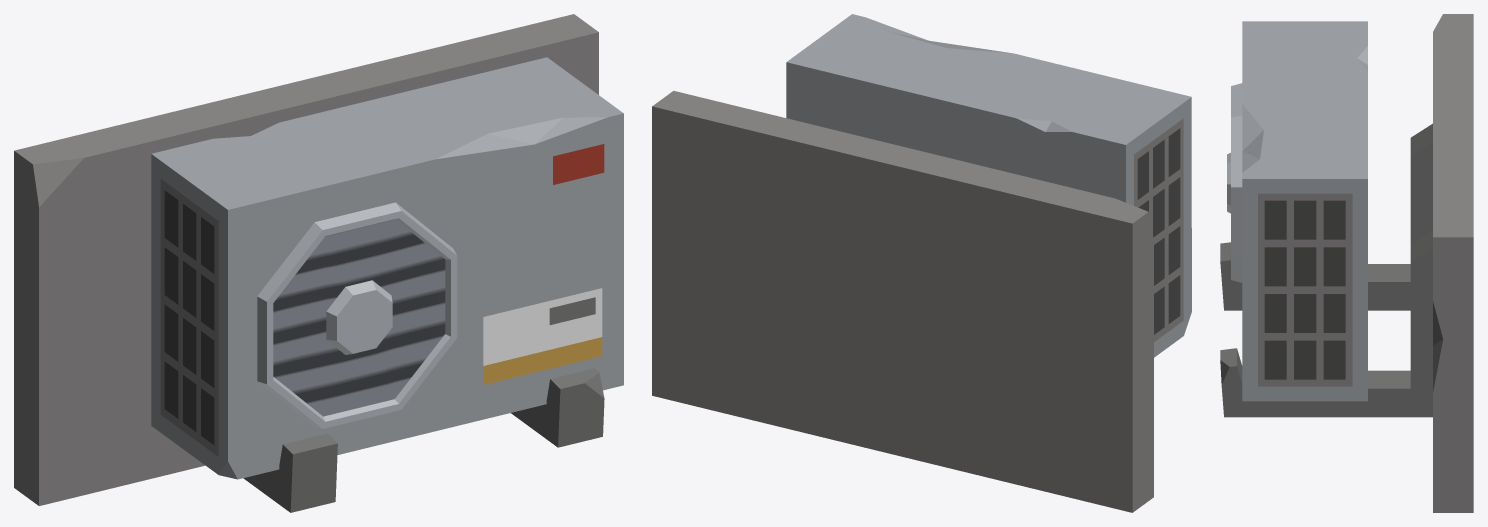
Rendered from SM_Prop_AirVent_03.fbx.
3 views of the same model, side by side, from view 1: azimuth 30°, elevation 25°; view 2: azimuth 150°, elevation 25°; view 3: azimuth 270°, elevation 25° (orthographic). The views are drawn at different scales.
Parts seen in each view (by area): view 1: SM_Prop_AirVent_03; view 2: SM_Prop_AirVent_03; view 3: SM_Prop_AirVent_03.
Boxes of the visible parts, left/top/right/bottom form: SM_Prop_AirVent_03: left=14, top=14, right=623, bottom=512; SM_Prop_AirVent_03: left=652, top=14, right=1191, bottom=512; SM_Prop_AirVent_03: left=1220, top=14, right=1473, bottom=512.
Size of the model in its own units: 101 by 62.89 by 48.58.
